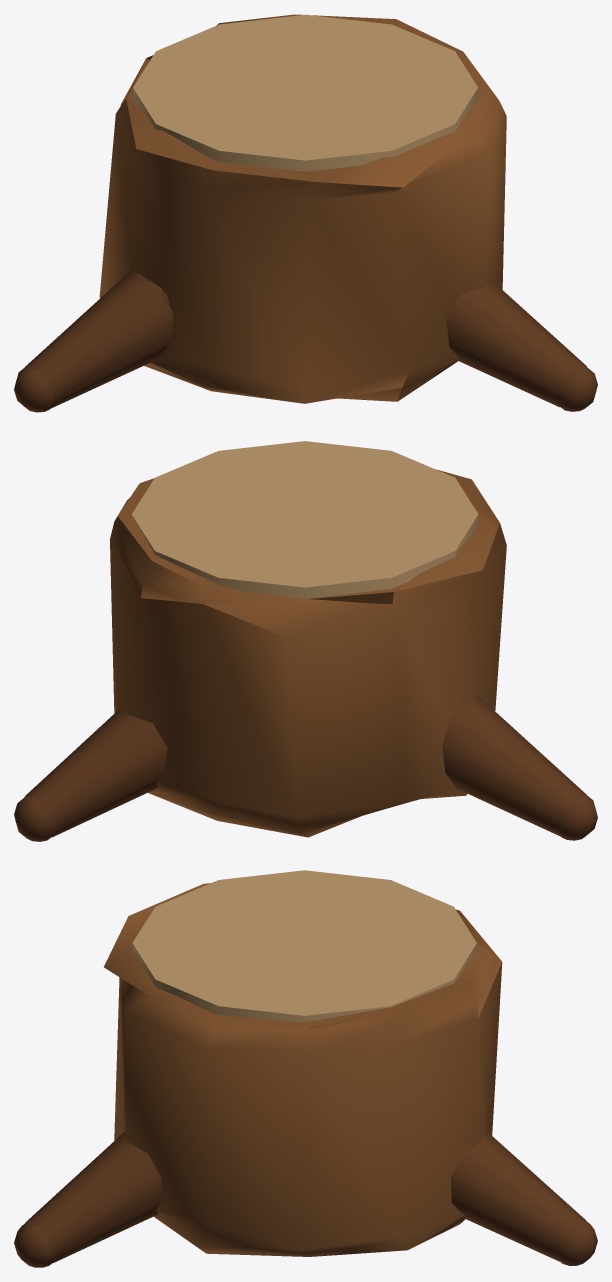
File: stump.fbx
3 renders of one model, top to bottom at view 1: azimuth 30°, elevation 25°; view 2: azimuth 150°, elevation 25°; view 3: azimuth 270°, elevation 25°, orthographic.
Parts seen in each view (by area): view 1: stump; view 2: stump; view 3: stump.
Part boxes in pixels (<box>): stump: <box>14,14,597,412</box>; stump: <box>14,441,597,841</box>; stump: <box>14,870,597,1267</box>.
Bounding box in the file's own units: 0.8707 × 0.4608 × 0.949.
